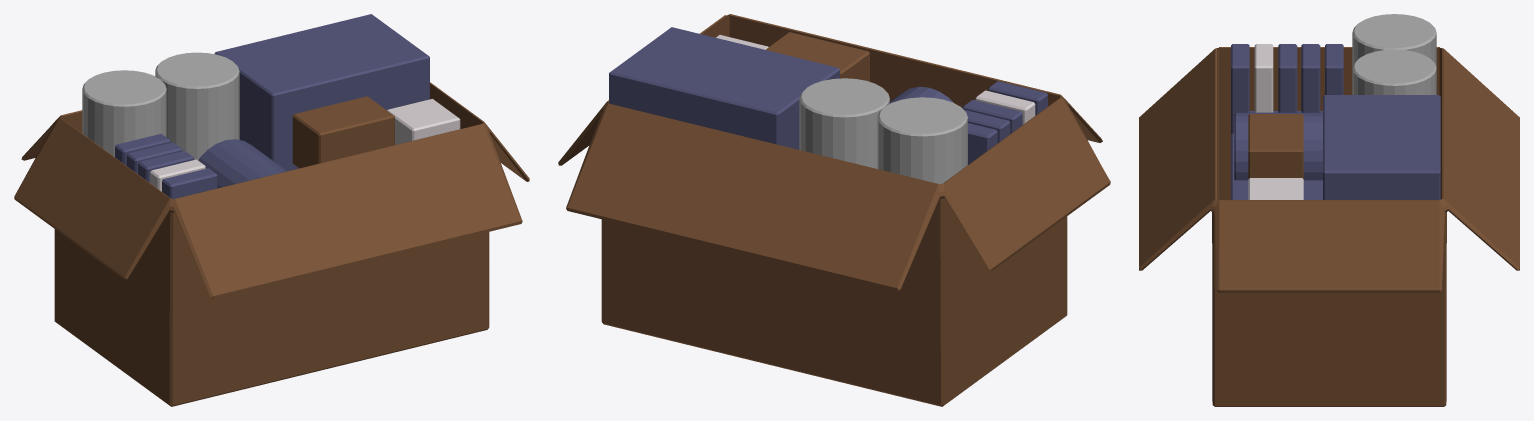
The model's file is carton.fbx.
The picture shows the model from 3 angles, left to right: view 1: azimuth 30°, elevation 25°; view 2: azimuth 150°, elevation 25°; view 3: azimuth 270°, elevation 25°; orthographic projection. The views are drawn at different scales.
Parts seen in each view (by area): view 1: carton; view 2: carton; view 3: carton.
Boxes of the visible parts, <box> form: carton: <box>14,14,529,406</box>; carton: <box>558,14,1110,406</box>; carton: <box>1139,14,1519,406</box>.
Bounding box in the file's own units: 104 × 59.57 × 84.65.
